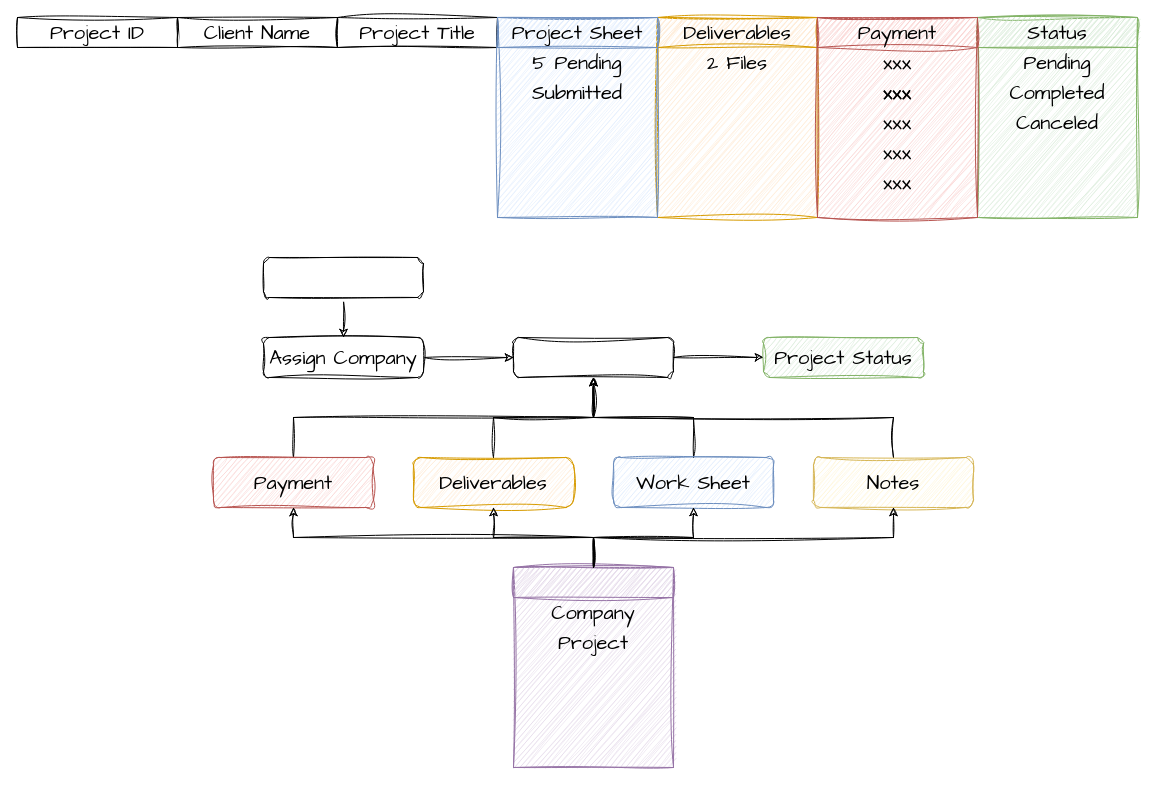
Image size: 1155x785. Some labels were removed from this diagram. The shapes that lost their labels are listed below. From the top down, each one's centre as x and y in pixels, then its label:
[343,277]: Assign User
[593,357]: Create Project
[593,582]: Common Inputs
